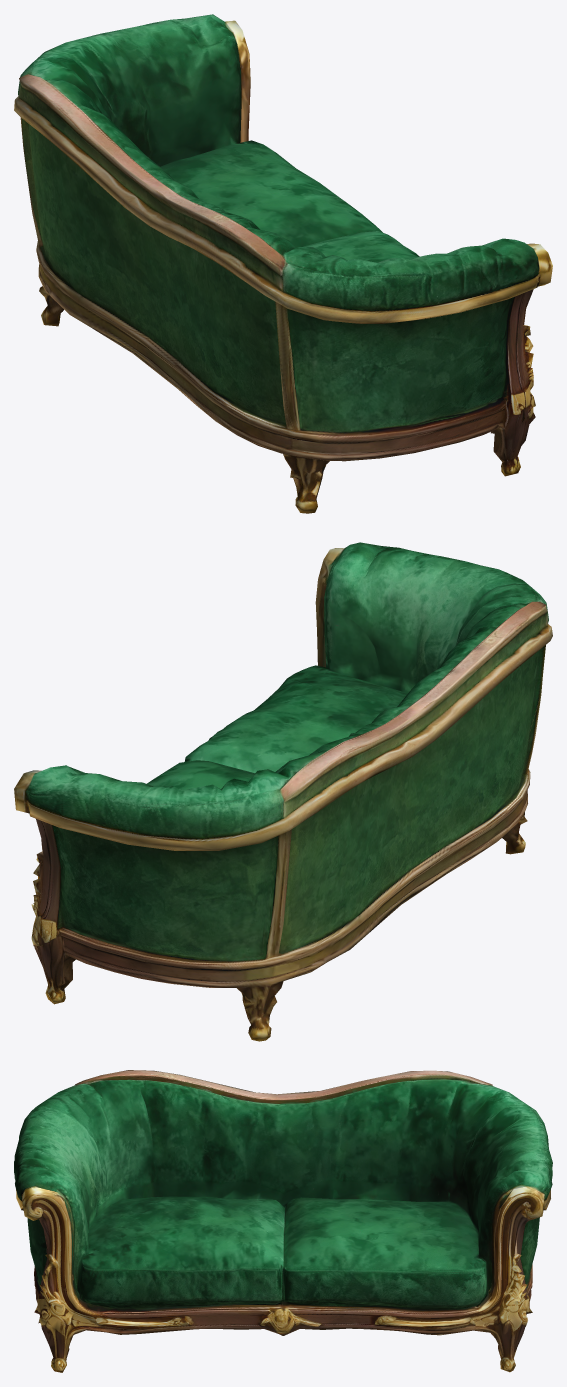
Rendered from green+velvet+sofa+3d+model.glb.
3 renders of one model, top to bottom at view 1: azimuth 30°, elevation 25°; view 2: azimuth 150°, elevation 25°; view 3: azimuth 270°, elevation 25°, orthographic. The views are drawn at different scales.
Visible parts, largest first — view 1: tripo_node_2deaa81a-379e-4633-905f-af74bffb8c26; view 2: tripo_node_2deaa81a-379e-4633-905f-af74bffb8c26; view 3: tripo_node_2deaa81a-379e-4633-905f-af74bffb8c26.
Part boxes in pixels (bbox=[...]): tripo_node_2deaa81a-379e-4633-905f-af74bffb8c26: bbox=[14, 14, 552, 513]; tripo_node_2deaa81a-379e-4633-905f-af74bffb8c26: bbox=[14, 542, 552, 1041]; tripo_node_2deaa81a-379e-4633-905f-af74bffb8c26: bbox=[14, 1070, 552, 1372].
Bounding box in the file's own units: 0.4416 × 0.4249 × 0.9792.
1 material, 1 textured.
